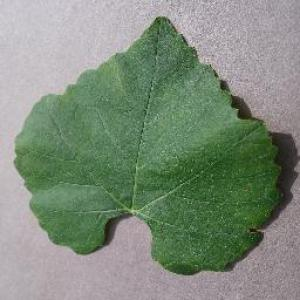Folha: (13, 14, 283, 275)
